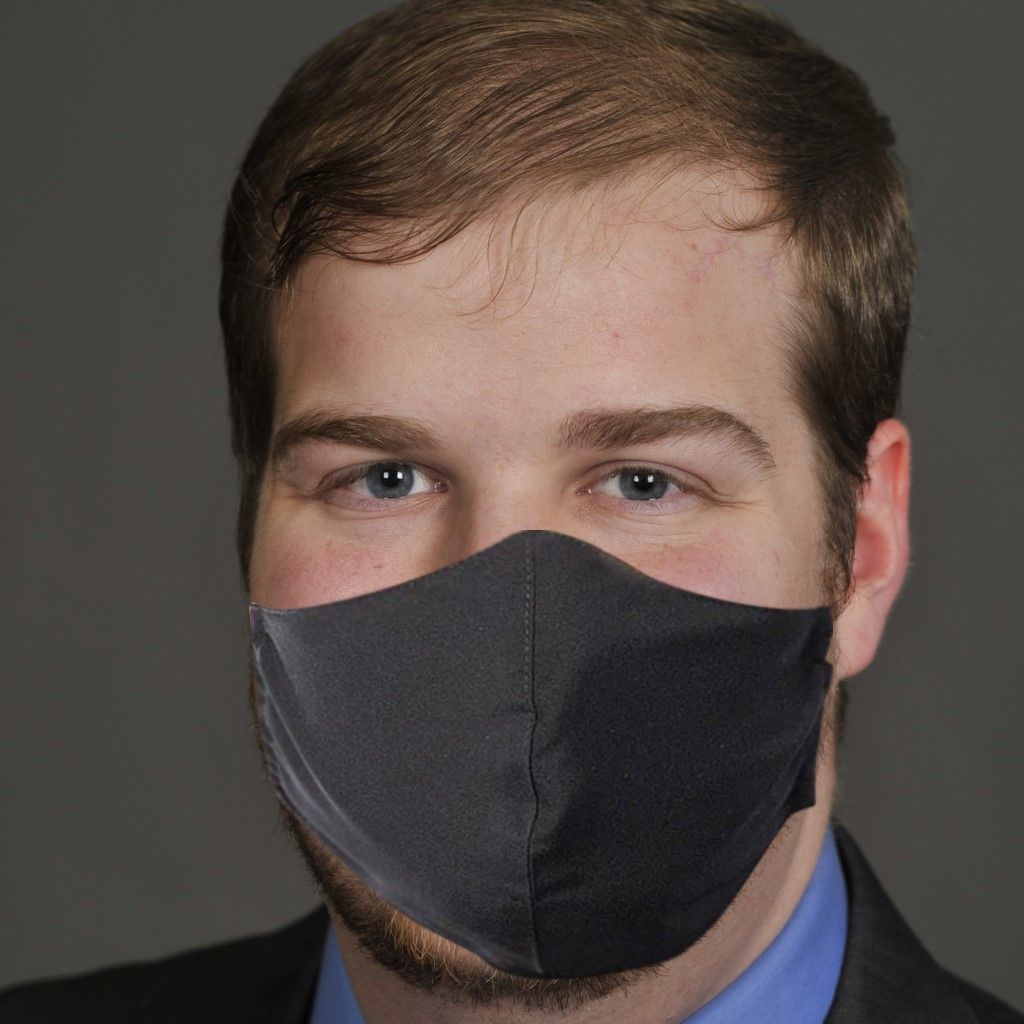con_mascara: (215, 131, 857, 985)
